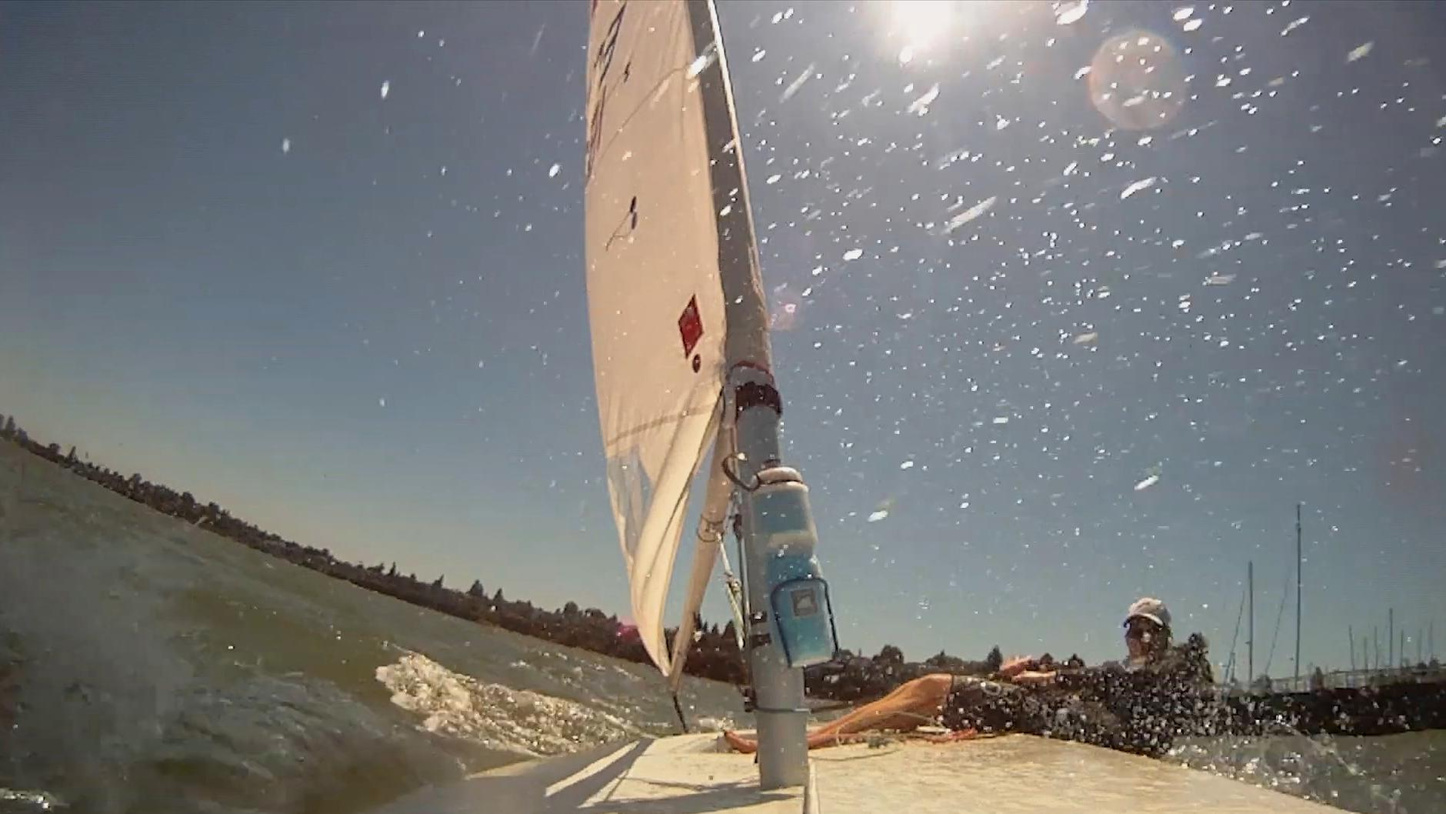boat: (363, 0, 1365, 814)
land: (0, 415, 652, 663), (1221, 671, 1446, 736), (796, 646, 917, 710), (678, 636, 749, 683)
person: (702, 599, 1202, 762)
sea: (0, 437, 748, 814), (1162, 729, 1446, 814)
sky: (712, 0, 1446, 687), (0, 0, 631, 619), (701, 559, 733, 634)
